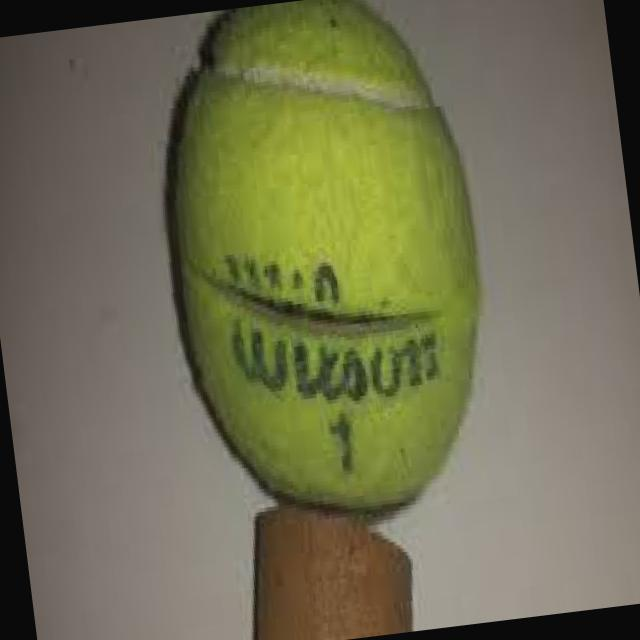tennis-ball: (143, 0, 510, 539)
